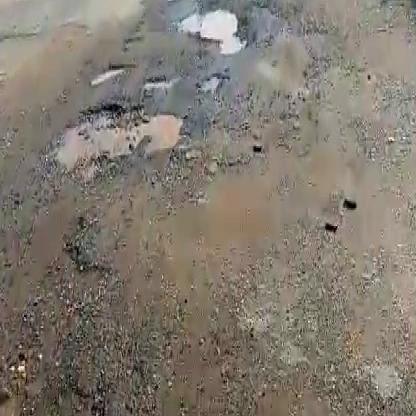pothole: (44, 104, 183, 177), (175, 4, 247, 49), (88, 58, 134, 86), (143, 74, 175, 89)
